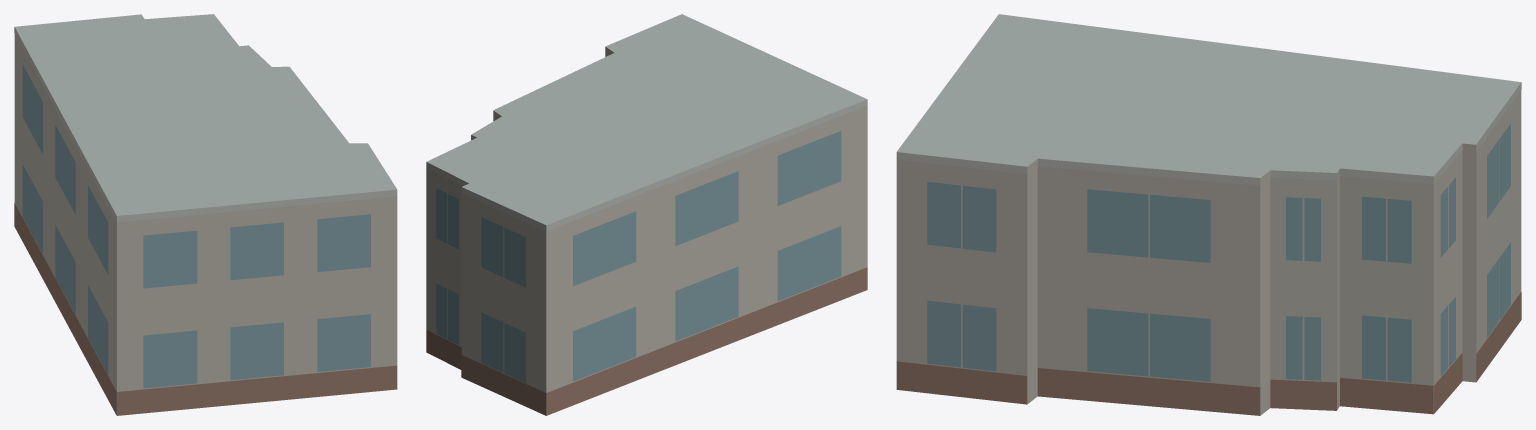
The model's file is survey-upis-32878553.glb.
3 views of the same model, side by side, from view 1: azimuth 30°, elevation 25°; view 2: azimuth 150°, elevation 25°; view 3: azimuth 270°, elevation 25° (orthographic). The views are drawn at different scales.
Visible parts, largest first — view 1: survey-upis-32878553.tmp; view 2: survey-upis-32878553.tmp; view 3: survey-upis-32878553.tmp.
Boxes of the visible parts, <box> form: survey-upis-32878553.tmp: <box>14,14,397,415</box>; survey-upis-32878553.tmp: <box>426,14,867,415</box>; survey-upis-32878553.tmp: <box>896,14,1521,415</box>.
Size of the model in its own units: 11.26 by 7.6 by 18.11.
